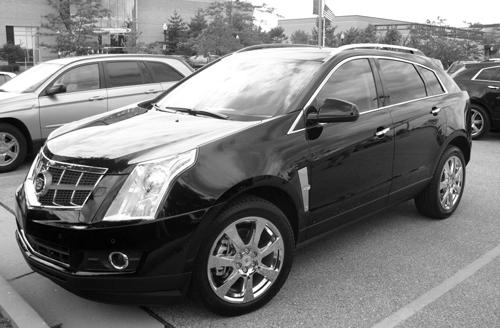car: (15, 42, 475, 318)
